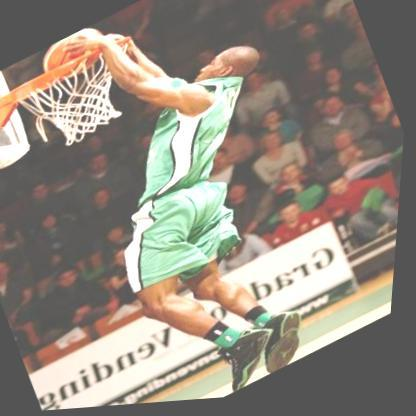basketball: (38, 20, 119, 88)
rim: (7, 31, 139, 108)
